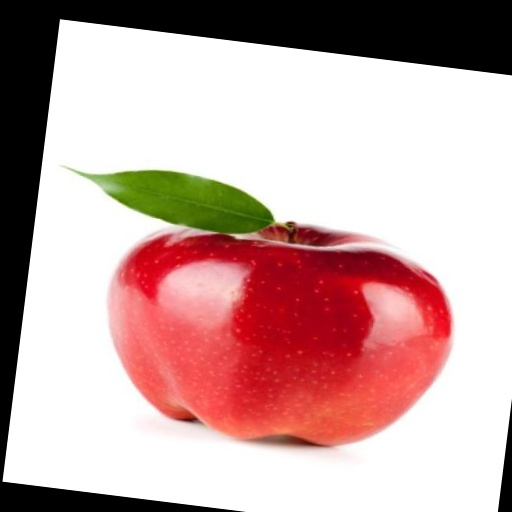fruit: (109, 225, 451, 445)
